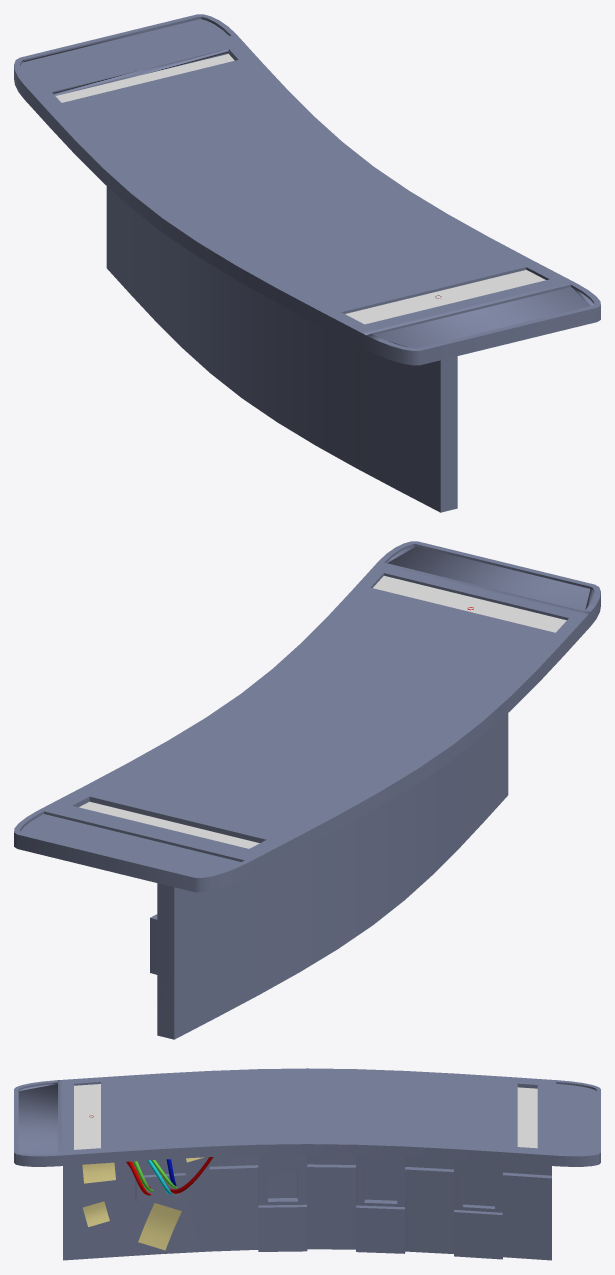
The model's file is стол новый 2.fbx.
3 renders of one model, top to bottom at view 1: azimuth 30°, elevation 25°; view 2: azimuth 150°, elevation 25°; view 3: azimuth 270°, elevation 25°, orthographic. The views are drawn at different scales.
Visible parts, largest first — view 1: Table; view 2: Table; view 3: Table, Papers.
Boxes of the visible parts, left/top/right/bottom form: Table: left=14, top=14, right=600, bottom=512; Table: left=14, top=541, right=600, bottom=1039; Table: left=14, top=1068, right=600, bottom=1260; Papers: left=82, top=1157, right=203, bottom=1250.
Size of the model in its own units: 182 by 141 by 513.
